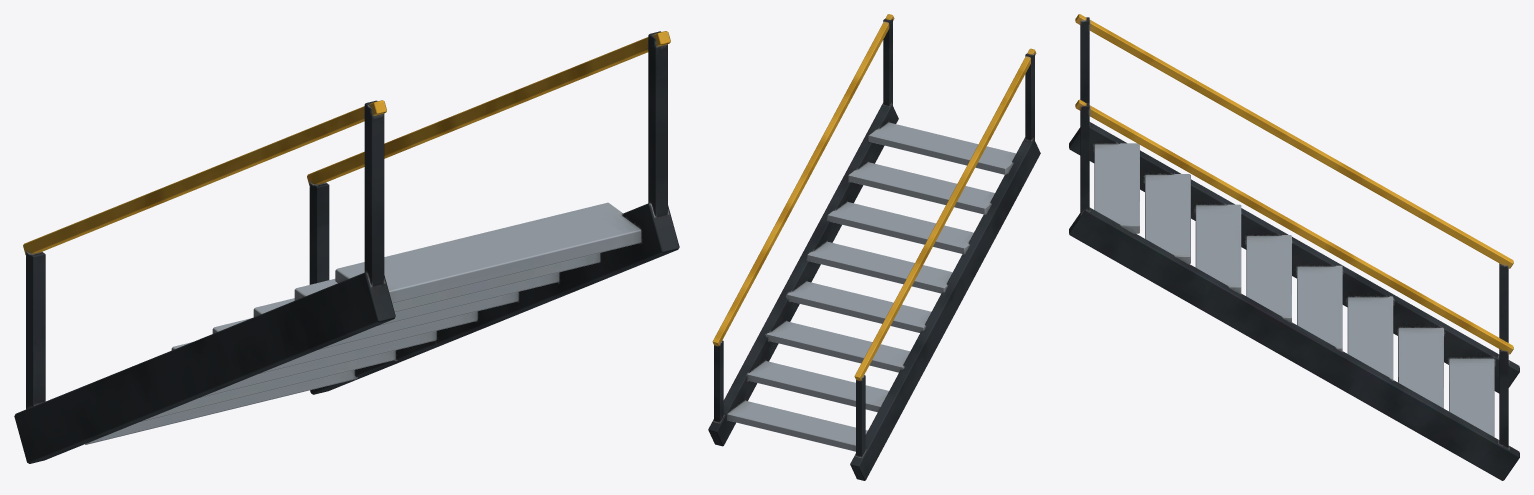
File: catwalk_stairs.glb
3 views of the same model, side by side, from view 1: azimuth 30°, elevation 25°; view 2: azimuth 150°, elevation 25°; view 3: azimuth 270°, elevation 25° (orthographic). The views are drawn at different scales.
Parts seen in each view (by area): view 1: CatwalkStairs; view 2: CatwalkStairs; view 3: CatwalkStairs.
Boxes of the visible parts, x1=… form: CatwalkStairs: x1=14, y1=31, x2=679, y2=463; CatwalkStairs: x1=708, y1=14, x2=1040, y2=480; CatwalkStairs: x1=1069, y1=14, x2=1519, y2=480.
Bounding box in the file's own units: 1.6 × 3.09 × 3.34.
1 material, 1 textured.
